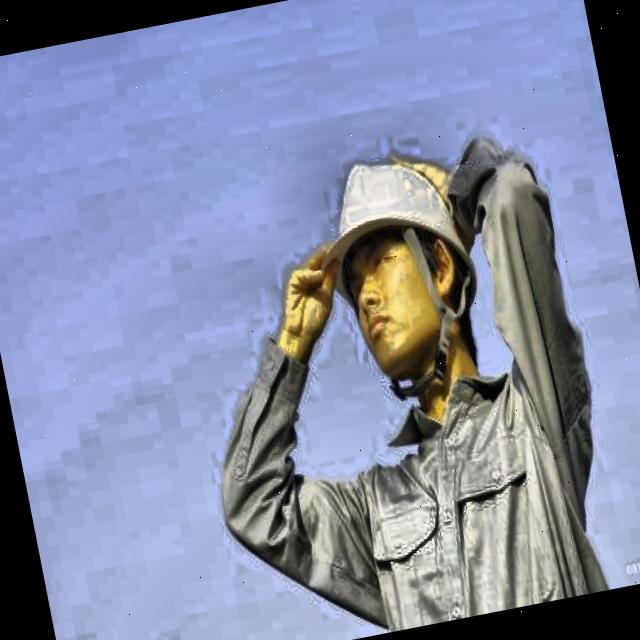helmet: (298, 126, 498, 410)
